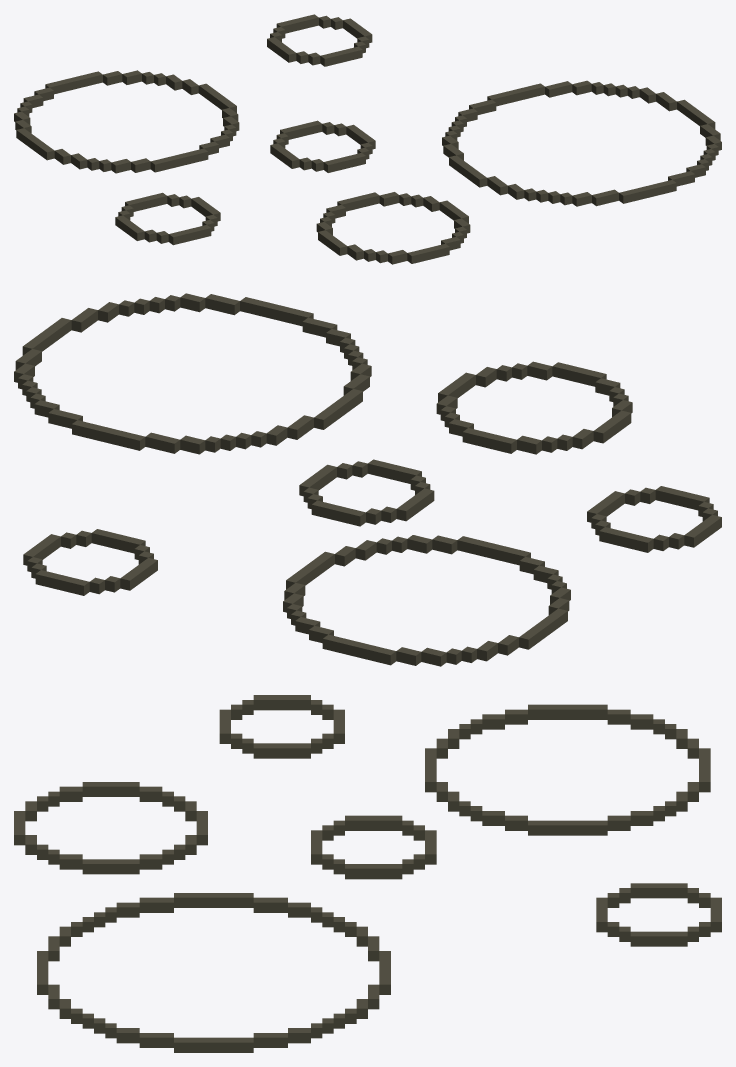
Rendered from mud_1_overtile.obj.
3 views of the same model, one above another, from view 1: azimuth 30°, elevation 25°; view 2: azimuth 150°, elevation 25°; view 3: azimuth 270°, elevation 25° (orthographic). The views are drawn at different scales.
Bounding box in the file's own units: 7.2 × 0.1 × 6.2.
1 material, 1 textured.
